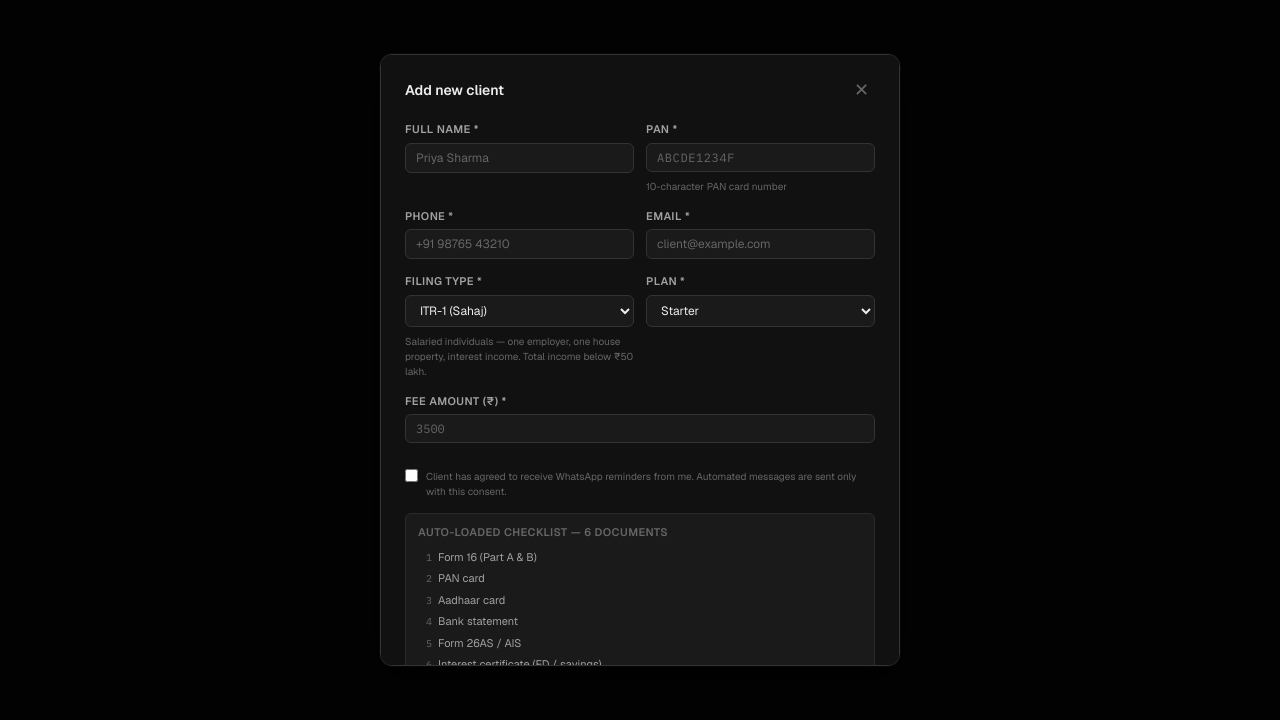
ClientFormModal — filing type changes › switching to Company ITR shows 9 docs
Select "Company ITR (ITR-6)" in the dropdown showing "ITR-1 (Sahaj)" below "Filing type *": (520, 310) [405, 294, 634, 326]
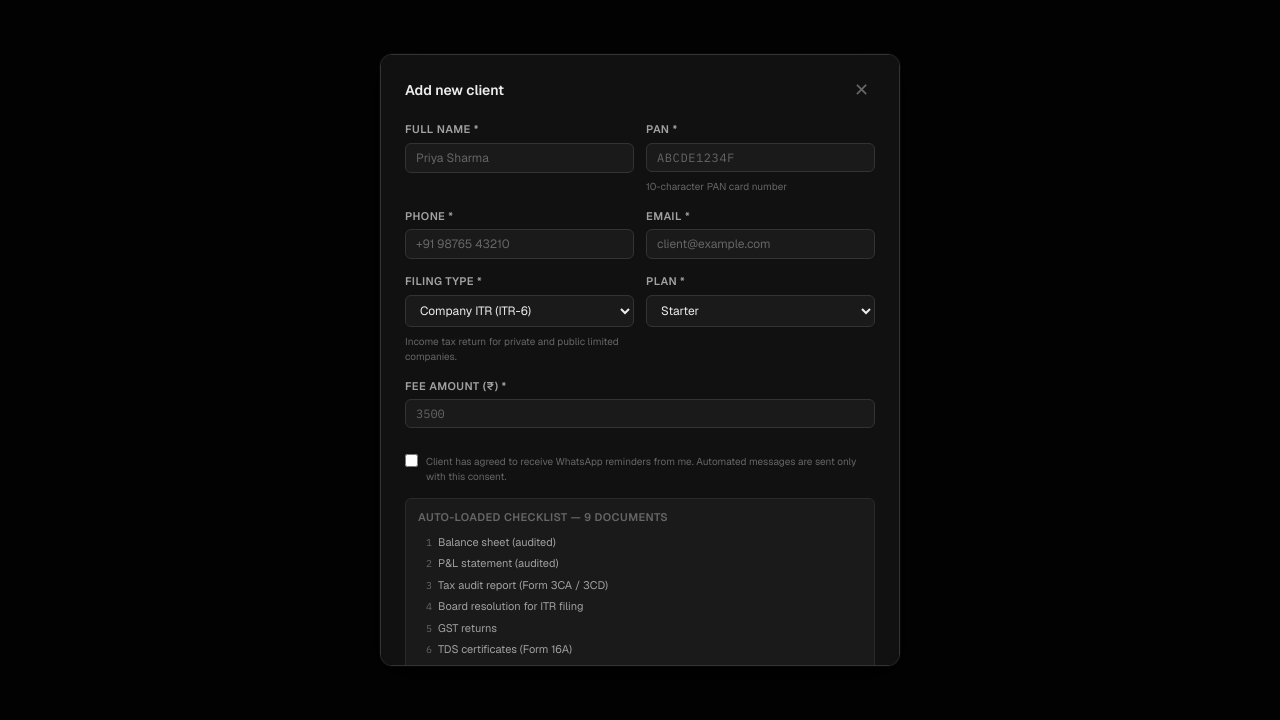
Now the text "Auto-loaded checklist — 9 documents" is shown, box [418, 510, 668, 524]
